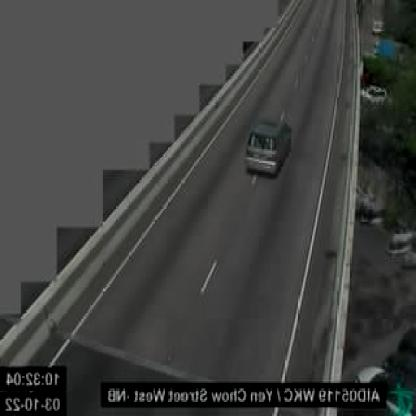Car: (243, 118, 291, 177)
